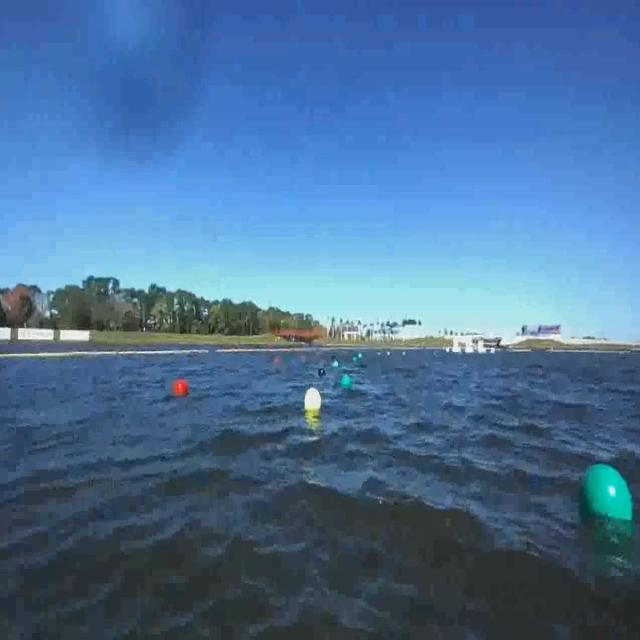black-buoy: (319, 366, 326, 376)
green-buoy: (575, 462, 633, 530), (342, 374, 353, 392)
red-buoy: (176, 376, 191, 396)
yellow-buoy: (303, 390, 320, 418)
